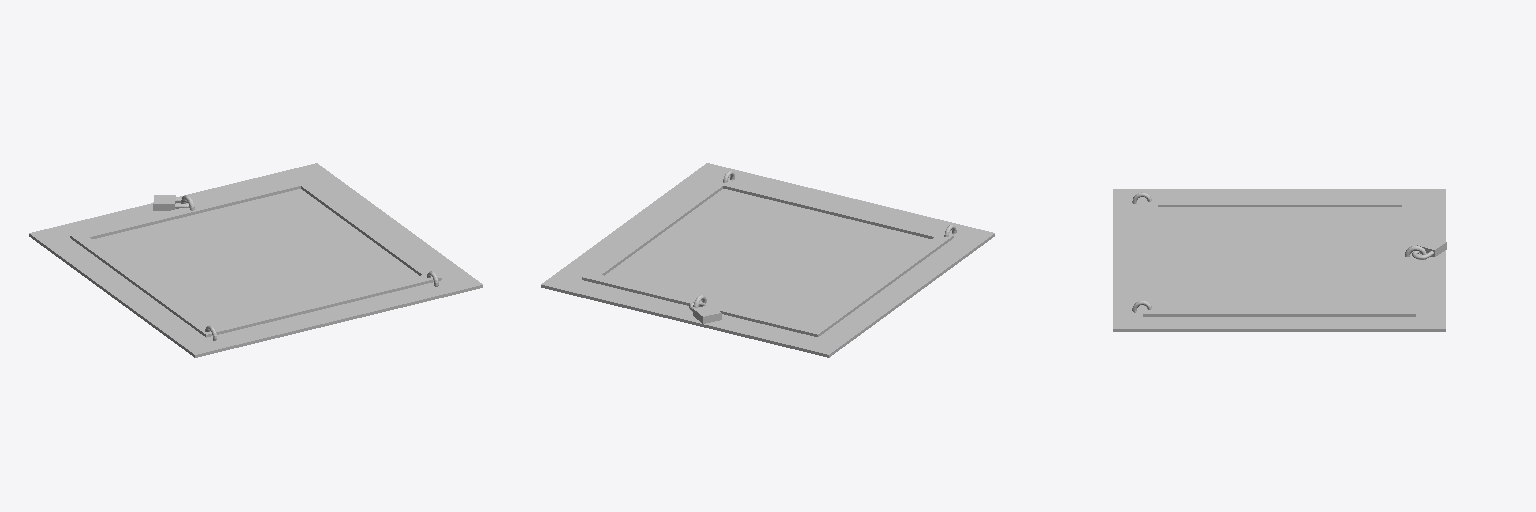
The model's file is trampilla.obj.
3 renders of one model, left to right at view 1: azimuth 30°, elevation 25°; view 2: azimuth 150°, elevation 25°; view 3: azimuth 270°, elevation 25°, orthographic.
Parts seen in each view (by area): view 1: Trampilla2; view 2: Trampilla2; view 3: Trampilla2.
Boxes of the visible parts, <box> form: Trampilla2: <box>29,163,482,357</box>; Trampilla2: <box>541,163,994,357</box>; Trampilla2: <box>1113,189,1446,331</box>.
Bounding box in the file's own units: 1 × 0.0676 × 1.